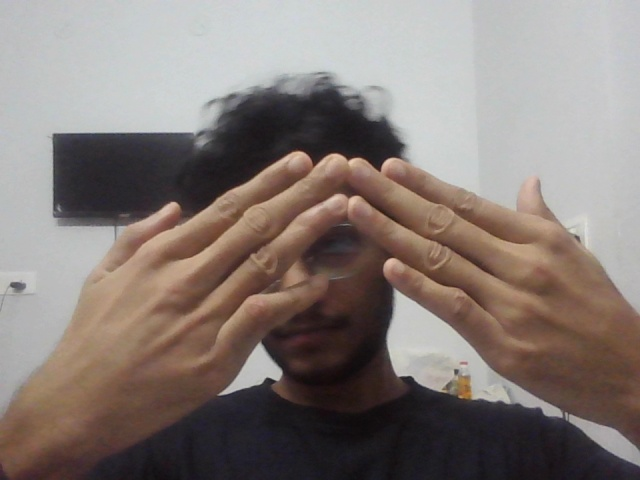Thanks: (41, 122, 629, 460)
